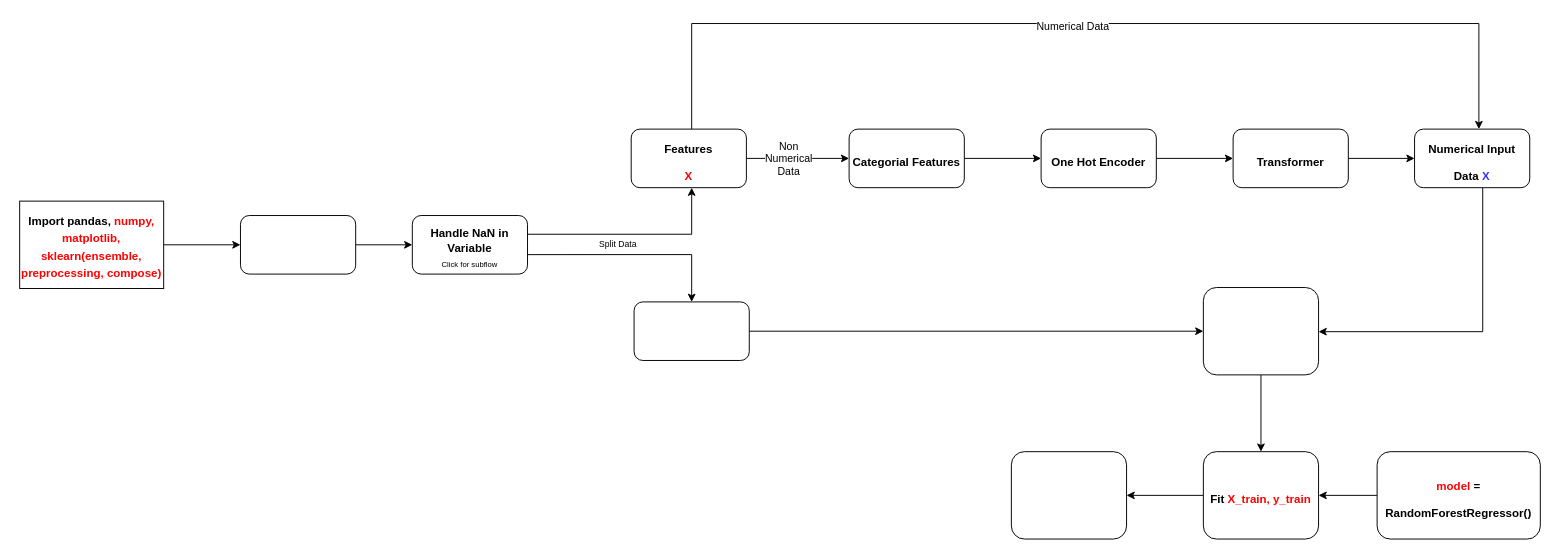
This 1557x556 diagram has some shape labels left out. The box of each missing label's shape, as (x1, y1, x2, y2) in pixels:
Labels y: (633, 301, 749, 360)
Read csv using pd & store in variable: (240, 215, 356, 274)
Score X_test, y_test: (1010, 451, 1127, 539)
Train_Test_Split X_train, X_test, y_train, y_split: (1202, 287, 1319, 375)
